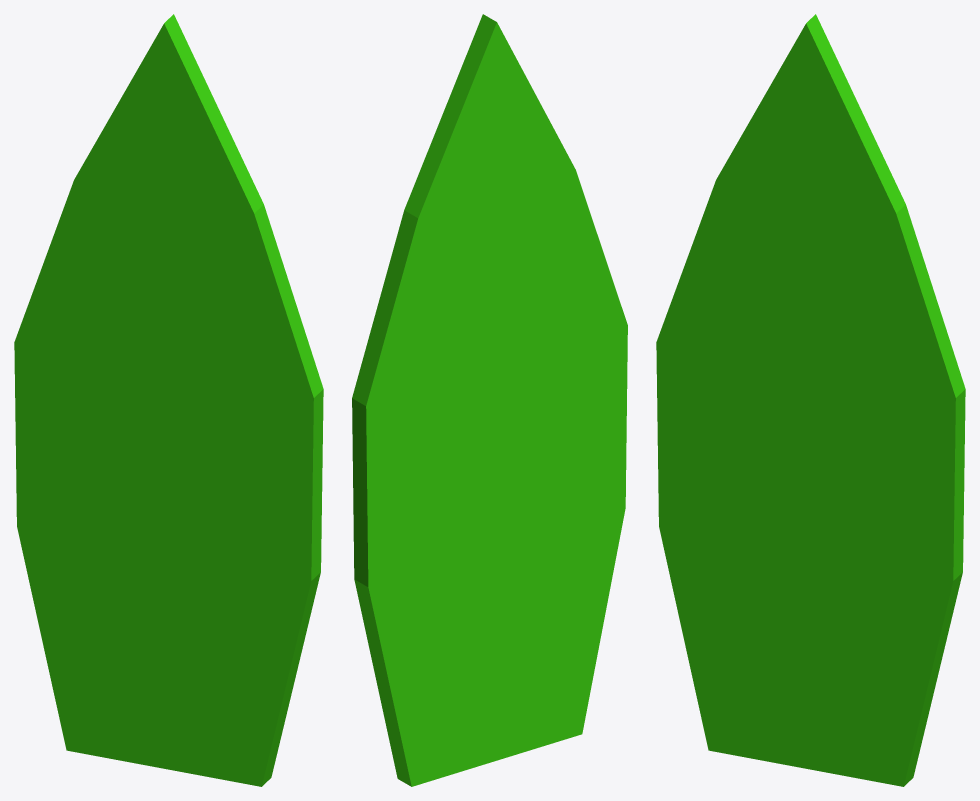
File: Rigged Grass Export 10.fbx
The picture shows the model from 3 angles, left to right: view 1: azimuth 90°, elevation 25°; view 2: azimuth 150°, elevation 25°; view 3: azimuth 270°, elevation 25°; orthographic projection.
Visible parts, largest first — view 1: Grass 2 Left Left 6; view 2: Grass 2 Left Left 6; view 3: Grass 2 Left Left 6.
Boxes of the visible parts, x1,y1,x2,y2 form: Grass 2 Left Left 6: (14, 14, 323, 786); Grass 2 Left Left 6: (352, 14, 627, 786); Grass 2 Left Left 6: (656, 14, 965, 786).
Bounding box in the file's own units: 66.19 × 353 × 133.
